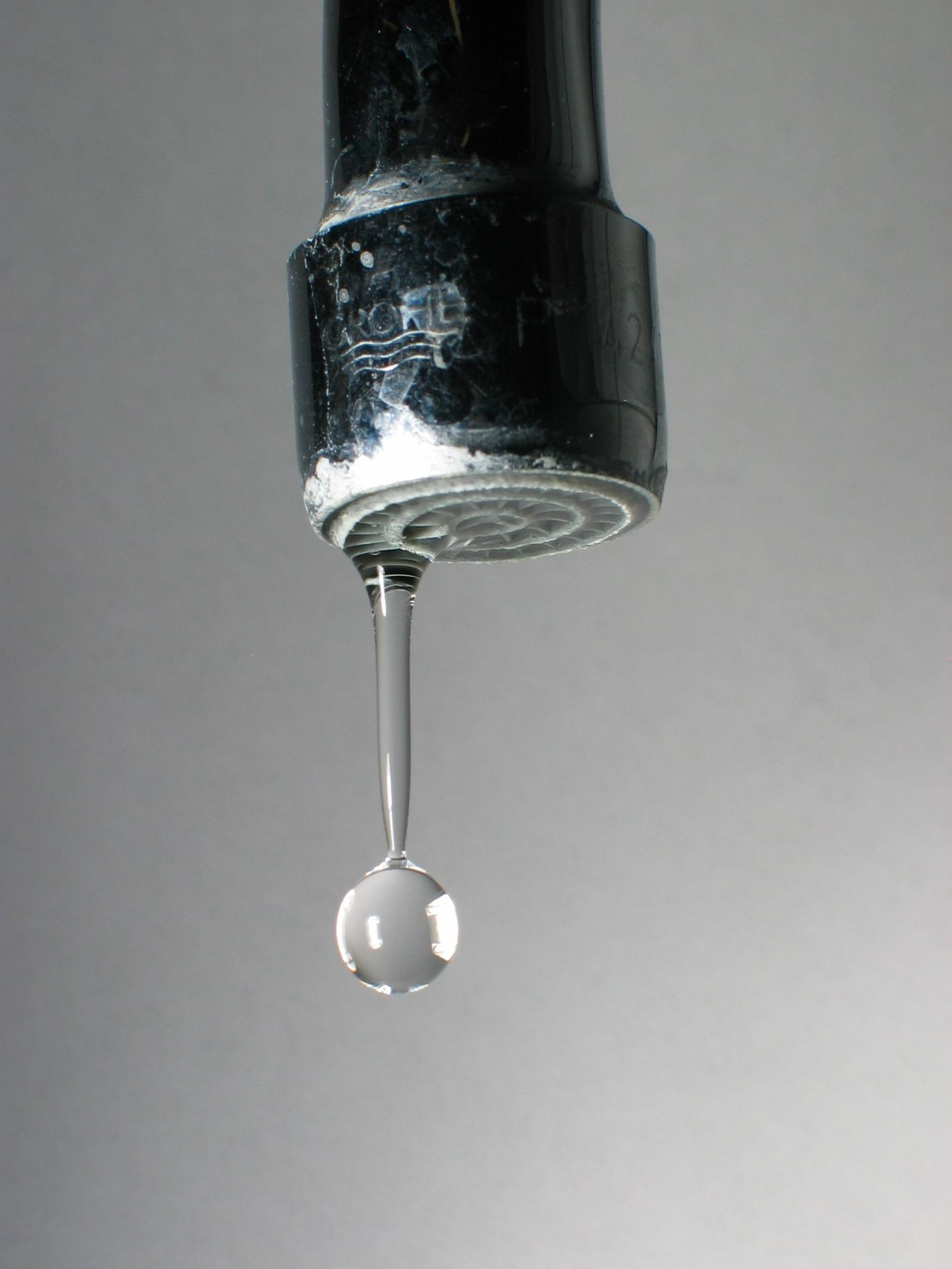water drop: (334, 538, 459, 993)
